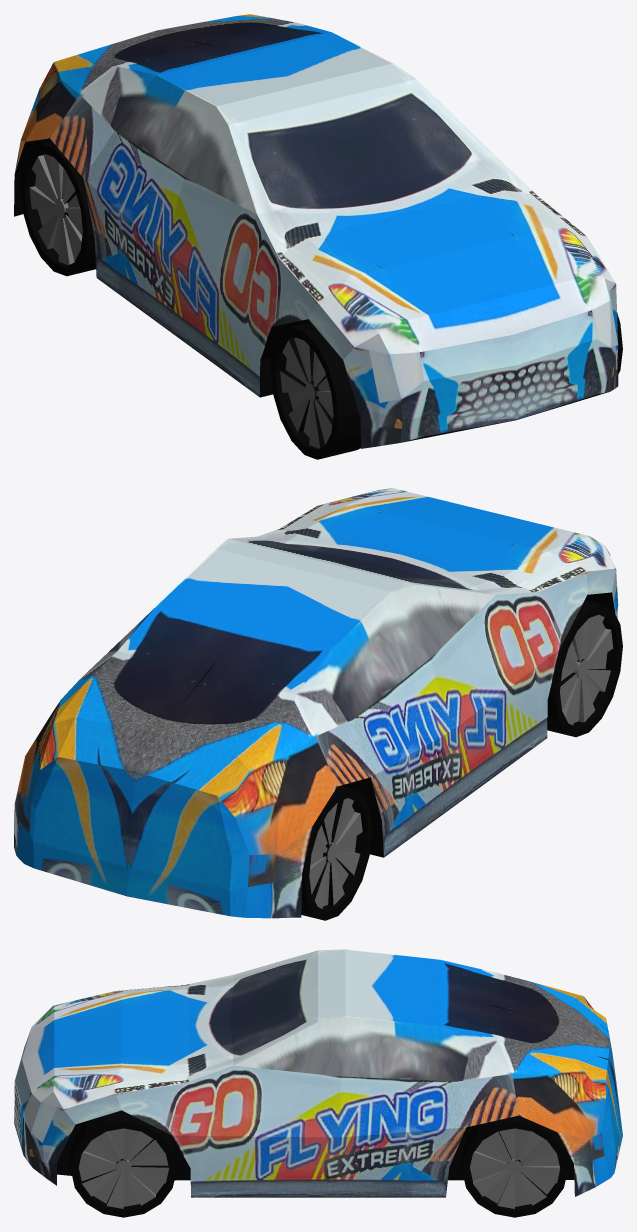
Rendered from car.glb.
3 renders of one model, top to bottom at view 1: azimuth 30°, elevation 25°; view 2: azimuth 150°, elevation 25°; view 3: azimuth 270°, elevation 25°, orthographic. The views are drawn at different scales.
Visible parts, largest first — view 1: Cube; view 2: Cube; view 3: Cube.
Part boxes in pixels (box(x1,y1,x2,y2)): Cube: box(14, 14, 622, 459); Cube: box(14, 488, 622, 920); Cube: box(14, 949, 622, 1217).
Bounding box in the file's own units: 3.23 × 2.48 × 7.59.
Materials: 6 (4 with a texture image).
